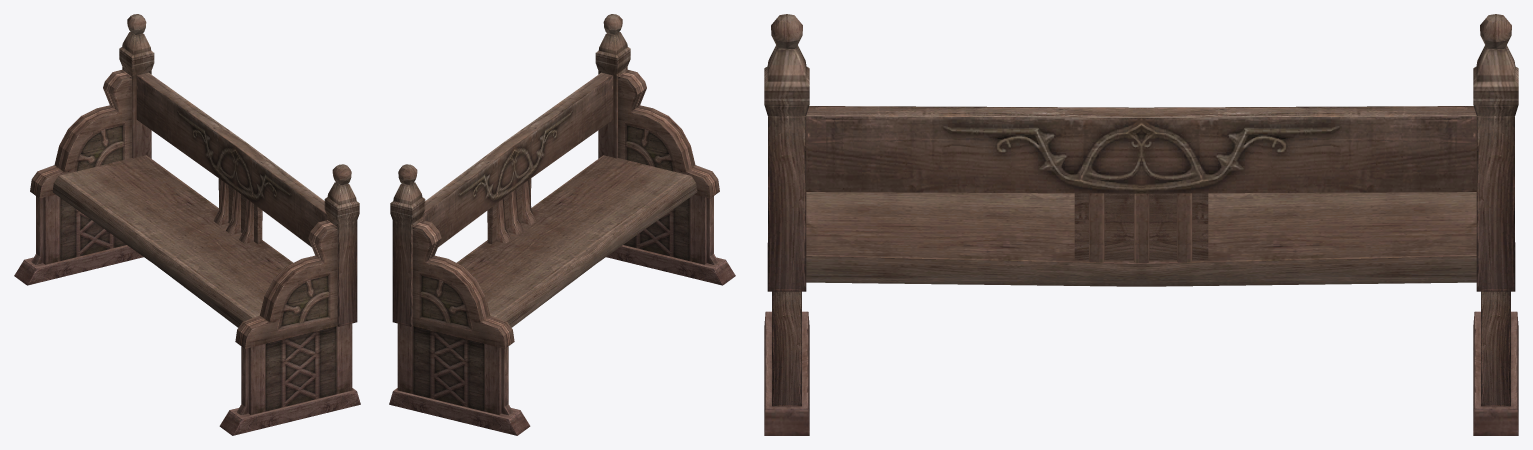
The model's file is bg_lut_lucastle_churchinchair01_sm_ysi.FBX.
3 views of the same model, side by side, from view 1: azimuth 30°, elevation 25°; view 2: azimuth 150°, elevation 25°; view 3: azimuth 270°, elevation 25° (orthographic). The views are drawn at different scales.
Visible parts, largest first — view 1: bg_lut_lucastle_churchinchair01_sm_ysi; view 2: bg_lut_lucastle_churchinchair01_sm_ysi; view 3: bg_lut_lucastle_churchinchair01_sm_ysi.
Part boxes in pixels (x1=…): bg_lut_lucastle_churchinchair01_sm_ysi: x1=14, y1=14, x2=360, y2=435; bg_lut_lucastle_churchinchair01_sm_ysi: x1=389, y1=14, x2=735, y2=435; bg_lut_lucastle_churchinchair01_sm_ysi: x1=764, y1=14, x2=1518, y2=435.
Bounding box in the file's own units: 85.54 × 151 × 252.
